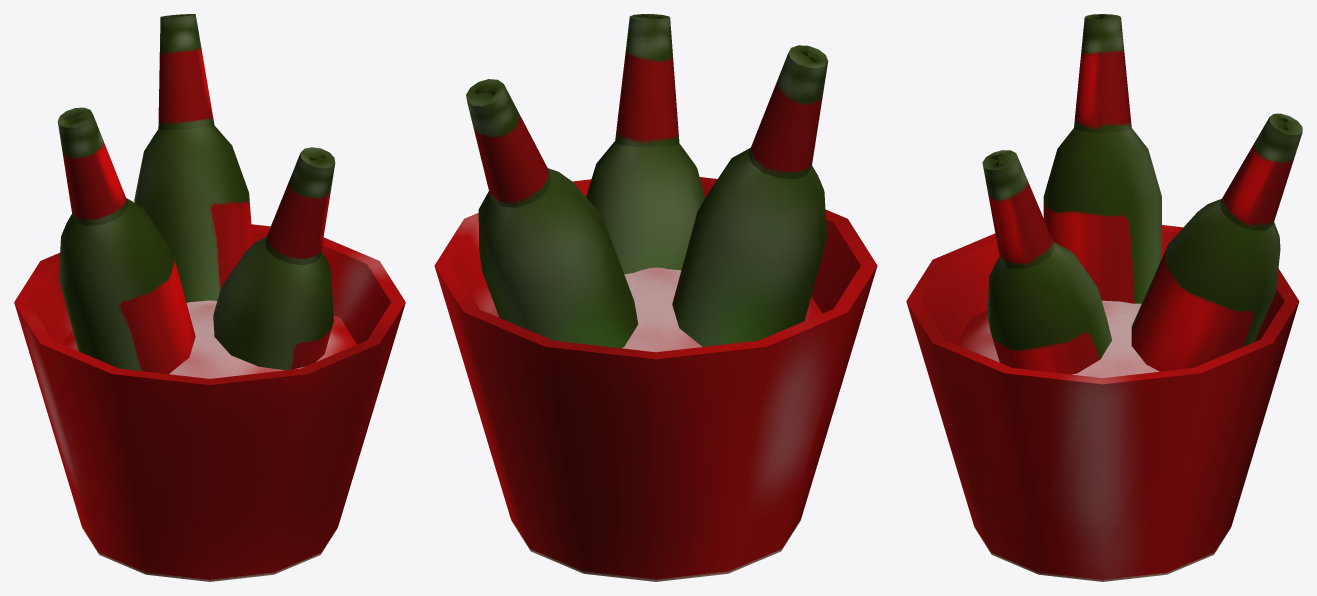
The model's file is bucket_01.FBX.
3 views of the same model, side by side, from view 1: azimuth 30°, elevation 25°; view 2: azimuth 150°, elevation 25°; view 3: azimuth 270°, elevation 25° (orthographic). The views are drawn at different scales.
Parts seen in each view (by area): view 1: bucket_01; view 2: bucket_01; view 3: bucket_01.
Part boxes in pixels (bbox=[...]): bucket_01: bbox=[14, 14, 405, 581]; bucket_01: bbox=[434, 14, 877, 581]; bucket_01: bbox=[906, 14, 1302, 581].
Size of the model in its own units: 48.73 by 61.4 by 49.14.
